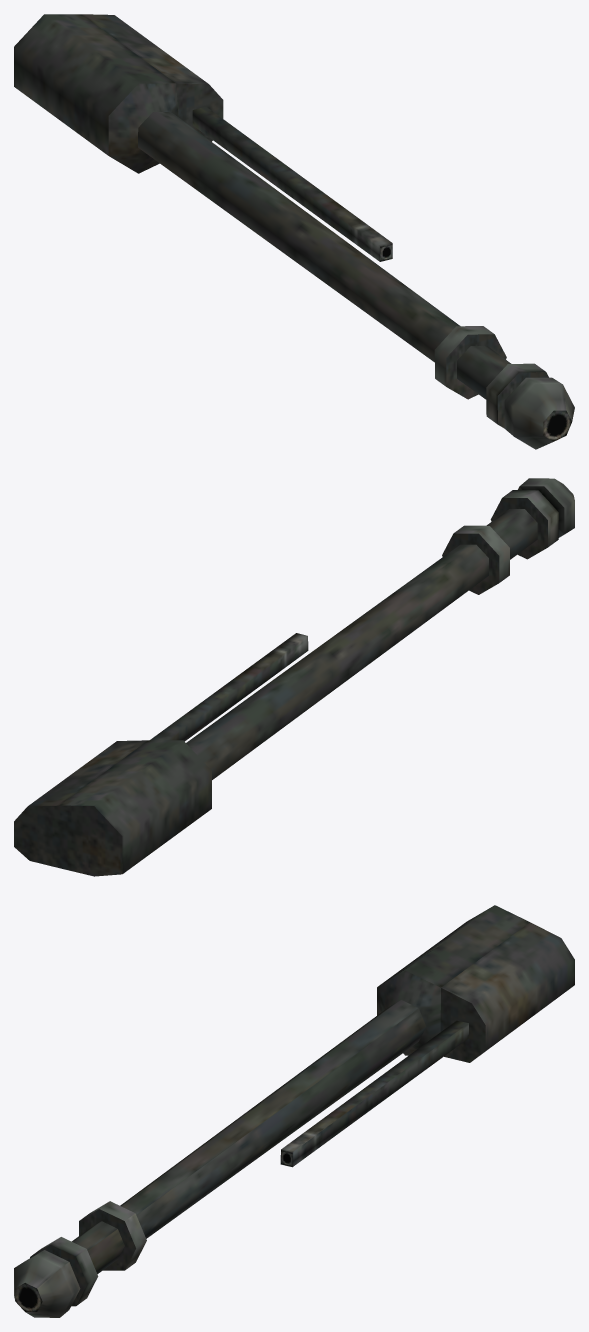
File: bwing_weapon2r_s01_l0.fbx
3 views of the same model, one above another, from view 1: azimuth 30°, elevation 25°; view 2: azimuth 150°, elevation 25°; view 3: azimuth 330°, elevation 25° (orthographic). The views are drawn at different scales.
Visible parts, largest first — view 1: mesh_node; view 2: mesh_node; view 3: mesh_node.
Part boxes in pixels (x1,y1,x2,y2): mesh_node: (14, 14, 574, 449); mesh_node: (14, 478, 574, 876); mesh_node: (14, 905, 574, 1317).
Size of the model in its own units: 0.3637 by 0.2731 by 2.76.
